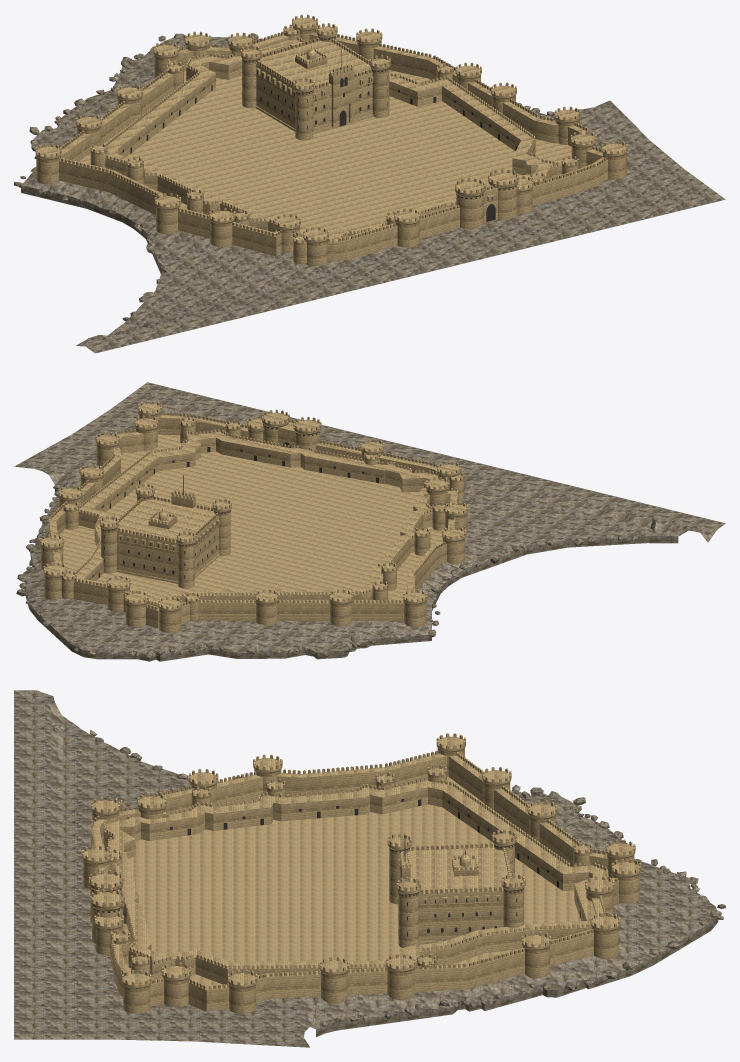
Rendered from qaitbay.glb.
The picture shows the model from 3 angles, top to bottom: view 1: azimuth 30°, elevation 25°; view 2: azimuth 150°, elevation 25°; view 3: azimuth 270°, elevation 25°; orthographic projection. The views are drawn at different scales.
Parts seen in each view (by area): view 1: Qaitbay; view 2: Qaitbay; view 3: Qaitbay.
Boxes of the visible parts, x1=… form: Qaitbay: x1=14, y1=14, x2=725, y2=353; Qaitbay: x1=14, y1=382, x2=725, y2=661; Qaitbay: x1=14, y1=690, x2=725, y2=1047.
Bounding box in the file's own units: 244 × 32.5 × 205.
Materials: 3 (2 with a texture image).
